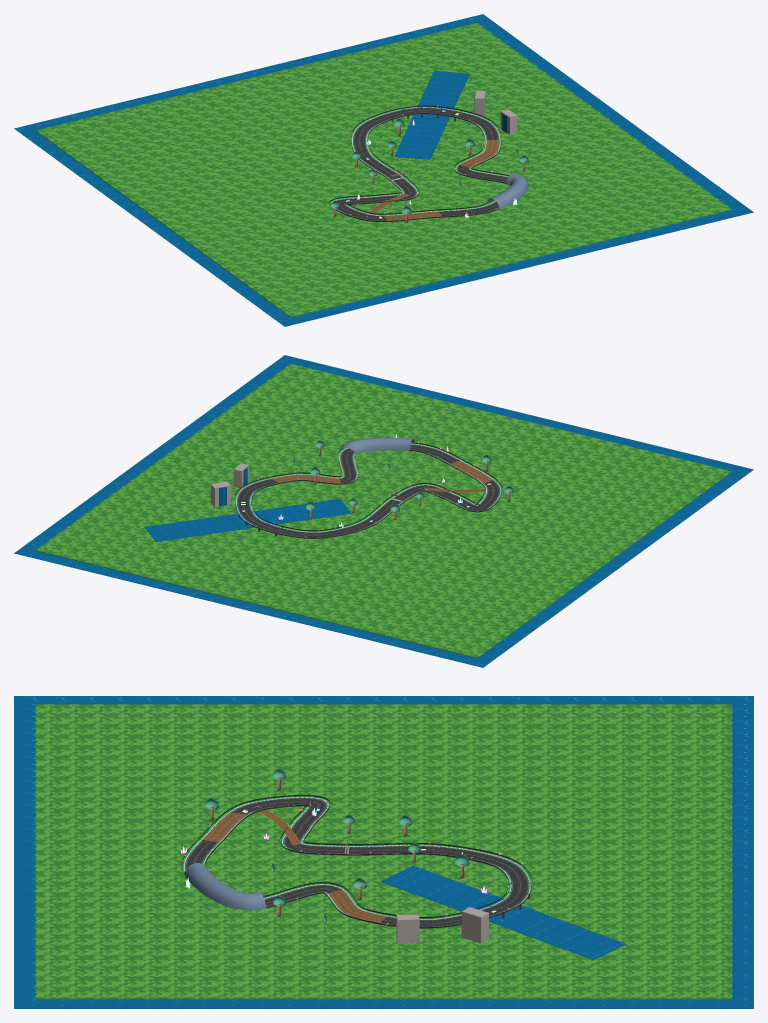
Rendered from bosque_de_cristal.glb.
The picture shows the model from 3 angles, top to bottom: view 1: azimuth 30°, elevation 25°; view 2: azimuth 150°, elevation 25°; view 3: azimuth 270°, elevation 25°; orthographic projection. The views are drawn at different scales.
Visible parts, largest first — view 1: BiomeGroundBasin, BayWaterPlane, MainRoadMesh, RiverChannelPlane, LeftStoneWall, RightStoneWall, CoastalTunnelShell; view 2: BiomeGroundBasin, BayWaterPlane, MainRoadMesh, RiverChannelPlane, CoastalTunnelShell, LeftStoneWall, RightStoneWall; view 3: BiomeGroundBasin, BayWaterPlane, RiverChannelPlane, MainRoadMesh, CoastalTunnelShell, LeftStoneWall, RightStoneWall, Waterfall_23_p0, LeftCurbMesh, Waterfall_24_p0, SurfacePatch_bosque-moss-trail, SurfacePatch_bosque-mushroom-path (+1 smaller).
Part boxes in pixels (x1,y1,x2,y2): BiomeGroundBasin: (35,22,732,317); BayWaterPlane: (14,14,753,326); MainRoadMesh: (335,107,507,220); RiverChannelPlane: (394,70,469,159); LeftStoneWall: (329,105,528,221); RightStoneWall: (345,113,506,214); CoastalTunnelShell: (487,172,528,209); BiomeGroundBasin: (35,363,732,658); BayWaterPlane: (14,355,753,667); MainRoadMesh: (237,444,500,537); RiverChannelPlane: (144,499,351,541); CoastalTunnelShell: (338,437,414,455); LeftStoneWall: (234,442,502,538); RightStoneWall: (251,449,485,531); BiomeGroundBasin: (35,704,732,999); BayWaterPlane: (14,696,753,1008); RiverChannelPlane: (381,865,626,959); MainRoadMesh: (185,797,529,927); CoastalTunnelShell: (184,863,265,910); LeftStoneWall: (181,795,532,928); RightStoneWall: (205,804,508,918); Waterfall_23_p0: (461,907,488,943); LeftCurbMesh: (183,797,530,915); Waterfall_24_p0: (396,914,419,943); SurfacePatch_bosque-moss-trail: (328,889,387,922); SurfacePatch_bosque-mushroom-path: (201,812,247,842).
Size of the model in its own units: 680 by 36.79 by 680.
Materials: 19 (9 with a texture image).
